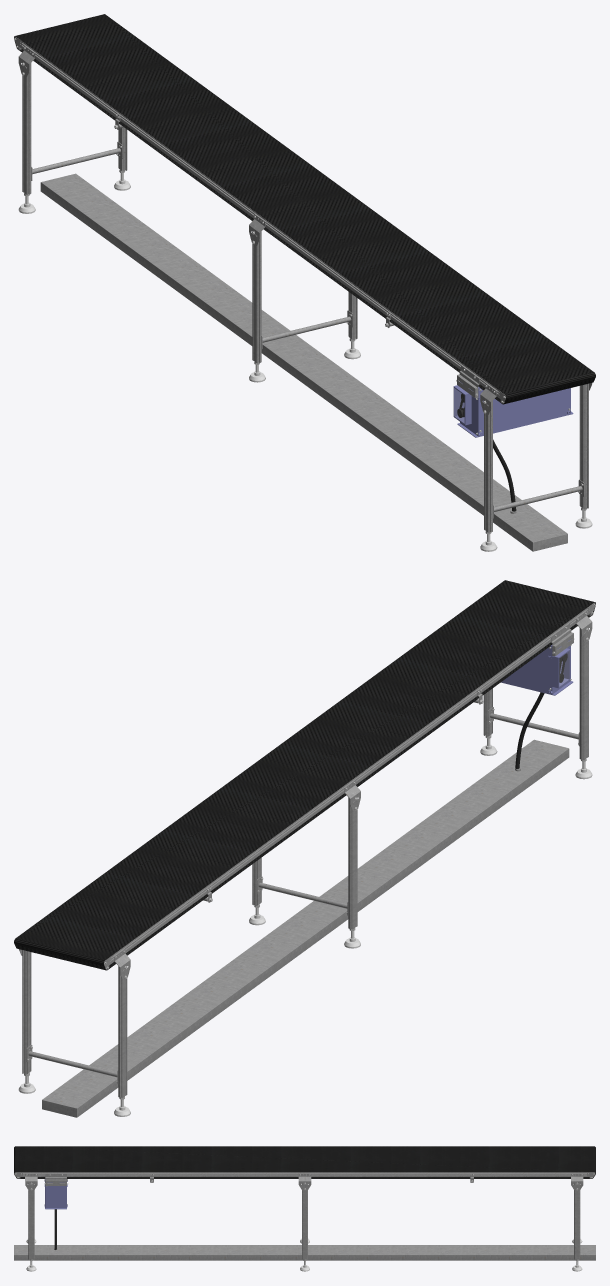
3 renders of one model, top to bottom at view 1: azimuth 30°, elevation 25°; view 2: azimuth 150°, elevation 25°; view 3: azimuth 270°, elevation 25°, orthographic. The views are drawn at different scales.
Parts seen in each view (by area): view 1: 04_belt, 04_cablebox, 04_sus, 04_box, 04_plate, 04_leg; view 2: 04_belt, 04_cablebox, 04_sus, 04_box, 04_plate, 04_leg; view 3: 04_belt, 04_cablebox, 04_sus, 04_plate, 04_box, 04_leg.
Part boxes in pixels (x1,y1,x2,y2): 04_belt: (14,14,595,404); 04_cablebox: (40,173,567,551); 04_sus: (14,36,588,532); 04_box: (453,381,573,437); 04_plate: (18,45,592,415); 04_leg: (18,173,592,551); 04_belt: (14,580,595,970); 04_cablebox: (42,739,569,1117); 04_sus: (22,602,595,1097); 04_box: (501,639,573,695); 04_plate: (19,611,592,980); 04_leg: (18,738,592,1116); 04_belt: (14,1146,595,1178); 04_cablebox: (14,1245,595,1260); 04_sus: (14,1172,595,1259); 04_plate: (25,1174,583,1190); 04_box: (44,1179,67,1209); 04_leg: (26,1238,582,1271).
Bounding box in the file's own units: 0.5999 × 0.8499 × 4.65.
Materials: 7 (2 with a texture image).
